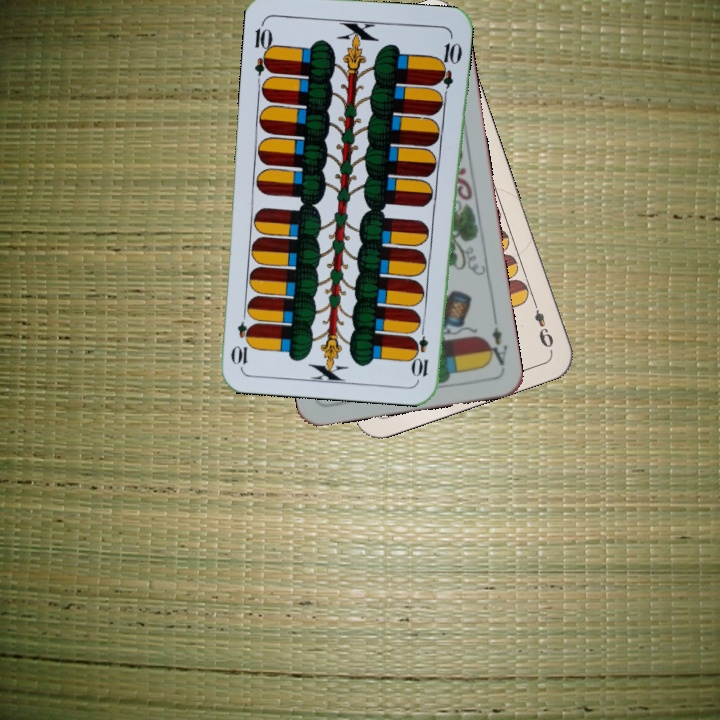E10: (250, 18, 277, 77), (412, 320, 431, 379)
E9: (528, 296, 556, 351)
EA: (482, 312, 510, 371)
